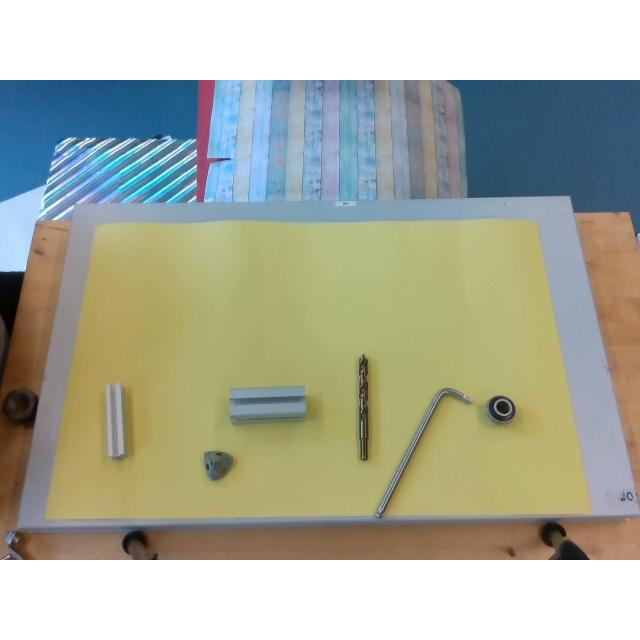AllenKey: (374, 387, 472, 519)
Bearing2: (488, 394, 516, 422)
Drill: (357, 354, 369, 460)
F20_20_G: (105, 382, 126, 458)
S40_40_G: (230, 386, 306, 422)
